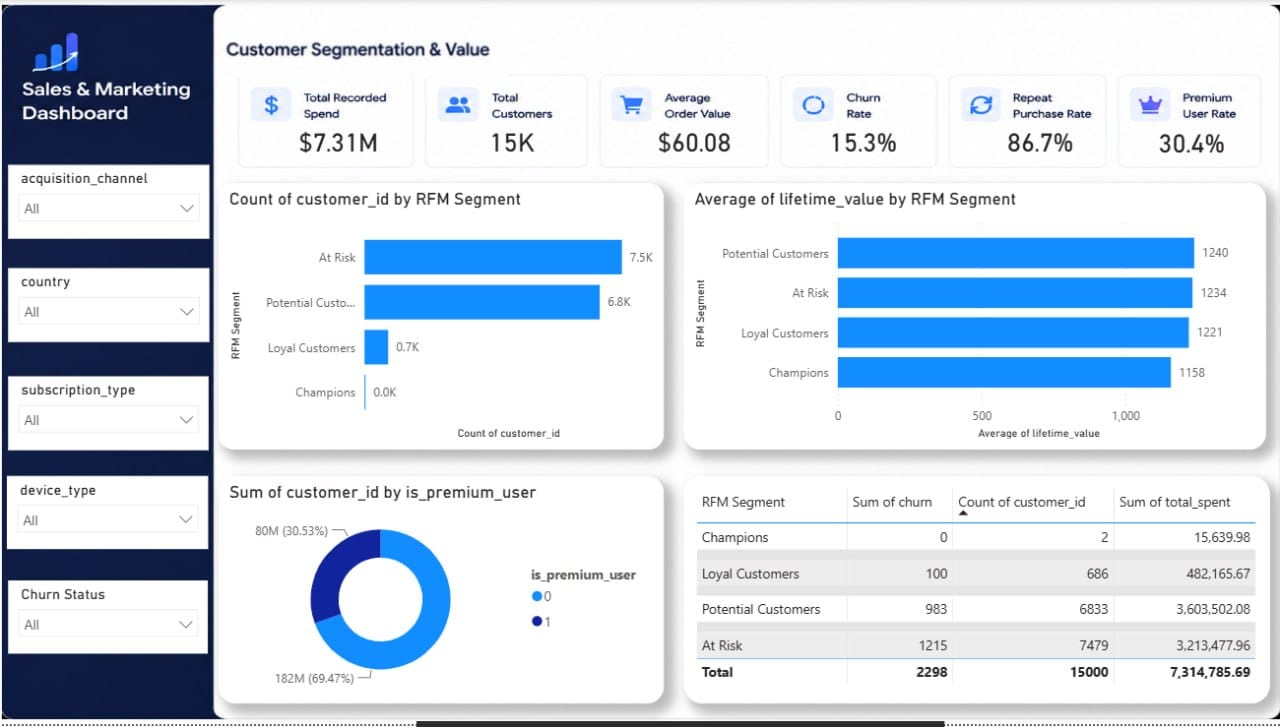

What the dashboard file says about the page in this screenshot:
{"tool":"powerbi","page":{"name":"Duplicate of Page 2","canvas":[1280,720],"ordinal":1},"visuals":[{"type":"image","box":[0,0,1280,720],"z":0},{"type":"cardVisual","fields":{"Data":["cleaned_marketing_customer_dataset (1).Total Recorded Spend"]},"box":[280,101.2,118.8,71.2],"z":1000},{"type":"cardVisual","fields":{"Data":["cleaned_marketing_customer_dataset (1).Total Customers"]},"box":[452.5,101.2,118.8,71.2],"z":2000},{"type":"cardVisual","fields":{"Data":["cleaned_marketing_customer_dataset (1).Avg Order Value"]},"box":[627.5,101.2,131.2,71.2],"z":3000},{"type":"cardVisual","fields":{"Data":["cleaned_marketing_customer_dataset (1).Churn Rate"]},"box":[788.8,101.2,143.8,71.2],"z":4000},{"type":"cardVisual","fields":{"Data":["cleaned_marketing_customer_dataset (1).Repeat Purchase Rate"]},"box":[971.2,101.2,131.2,71.2],"z":5000},{"type":"cardVisual","fields":{"Data":["cleaned_marketing_customer_dataset (1).Premium User Rate"]},"box":[1121.2,102.5,131.2,71.2],"z":6000},{"type":"clusteredBarChart","fields":{"Category":["cleaned_marketing_customer_dataset (1).RFM Segment"],"Y":["Count(cleaned_marketing_customer_dataset (1).customer_id)"]},"box":[220,182.5,442.5,265],"z":7000},{"type":"slicer","fields":{"Values":["cleaned_marketing_customer_dataset (1).acquisition_channel"]},"box":[11.2,163.8,200,73.8],"z":8000},{"type":"slicer","fields":{"Values":["cleaned_marketing_customer_dataset (1).country"]},"box":[11.2,266.2,200,73.8],"z":9000},{"type":"slicer","fields":{"Values":["cleaned_marketing_customer_dataset (1).subscription_type"]},"box":[11,374.2,199.3,73.4],"z":10000},{"type":"slicer","fields":{"Values":["cleaned_marketing_customer_dataset (1).device_type"]},"box":[10,473.8,200,72.5],"z":11000},{"type":"slicer","fields":{"Values":["cleaned_marketing_customer_dataset (1).Churn Status"]},"box":[11.2,577.5,198.8,72.5],"z":12000},{"type":"clusteredBarChart","fields":{"Category":["cleaned_marketing_customer_dataset (1).RFM Segment"],"Y":["Avg(cleaned_marketing_customer_dataset (1).lifetime_value)"]},"box":[682.5,182.5,578.8,265],"z":12001},{"type":"donutChart","fields":{"Category":["cleaned_marketing_customer_dataset (1).is_premium_user"],"Y":["Sum(cleaned_marketing_customer_dataset (1).customer_id)"]},"box":[220,473.8,442.5,226.2],"z":12002},{"type":"tableEx","fields":{"Values":["cleaned_marketing_customer_dataset (1).RFM Segment","Sum(cleaned_marketing_customer_dataset (1).churn)","CountNonNull(cleaned_marketing_customer_dataset (1).customer_id)","Sum(cleaned_marketing_customer_dataset (1).total_spent)"]},"box":[682.5,473.8,582,226.2],"z":12003}]}

Visuals, with their boxes in screenshot pixels (x1, y1, x2, y2), scaled from the page's 1280x720 canvas onto the 1280x727 screenshot:
image: {"x1": 0, "y1": 0, "x2": 1279, "y2": 726}
cardVisual - cleaned_marketing_customer_dataset (1).Total Recorded Spend: {"x1": 280, "y1": 102, "x2": 399, "y2": 174}
cardVisual - cleaned_marketing_customer_dataset (1).Total Customers: {"x1": 452, "y1": 102, "x2": 571, "y2": 174}
cardVisual - cleaned_marketing_customer_dataset (1).Avg Order Value: {"x1": 628, "y1": 102, "x2": 759, "y2": 174}
cardVisual - cleaned_marketing_customer_dataset (1).Churn Rate: {"x1": 789, "y1": 102, "x2": 933, "y2": 174}
cardVisual - cleaned_marketing_customer_dataset (1).Repeat Purchase Rate: {"x1": 971, "y1": 102, "x2": 1102, "y2": 174}
cardVisual - cleaned_marketing_customer_dataset (1).Premium User Rate: {"x1": 1121, "y1": 103, "x2": 1252, "y2": 175}
clusteredBarChart - cleaned_marketing_customer_dataset (1).RFM Segment x Count(cleaned_marketing_customer_dataset (1).customer_id): {"x1": 220, "y1": 184, "x2": 662, "y2": 452}
slicer - cleaned_marketing_customer_dataset (1).acquisition_channel: {"x1": 11, "y1": 165, "x2": 211, "y2": 240}
slicer - cleaned_marketing_customer_dataset (1).country: {"x1": 11, "y1": 269, "x2": 211, "y2": 343}
slicer - cleaned_marketing_customer_dataset (1).subscription_type: {"x1": 11, "y1": 378, "x2": 210, "y2": 452}
slicer - cleaned_marketing_customer_dataset (1).device_type: {"x1": 10, "y1": 478, "x2": 210, "y2": 552}
slicer - cleaned_marketing_customer_dataset (1).Churn Status: {"x1": 11, "y1": 583, "x2": 210, "y2": 656}
clusteredBarChart - cleaned_marketing_customer_dataset (1).RFM Segment x Avg(cleaned_marketing_customer_dataset (1).lifetime_value): {"x1": 682, "y1": 184, "x2": 1261, "y2": 452}
donutChart - cleaned_marketing_customer_dataset (1).is_premium_user x Sum(cleaned_marketing_customer_dataset (1).customer_id): {"x1": 220, "y1": 478, "x2": 662, "y2": 707}
tableEx - cleaned_marketing_customer_dataset (1).RFM Segment x Sum(cleaned_marketing_customer_dataset (1).churn): {"x1": 682, "y1": 478, "x2": 1264, "y2": 707}
